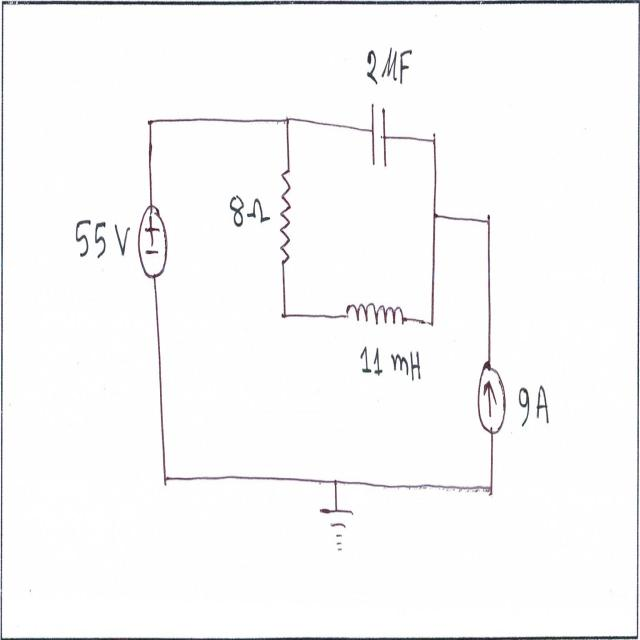capacitor: (367, 98, 392, 179)
current_source: (476, 352, 509, 444)
ground: (319, 503, 358, 569)
inductor: (341, 296, 405, 336)
resistor: (276, 165, 296, 272)
voltage_source: (134, 192, 172, 290)
